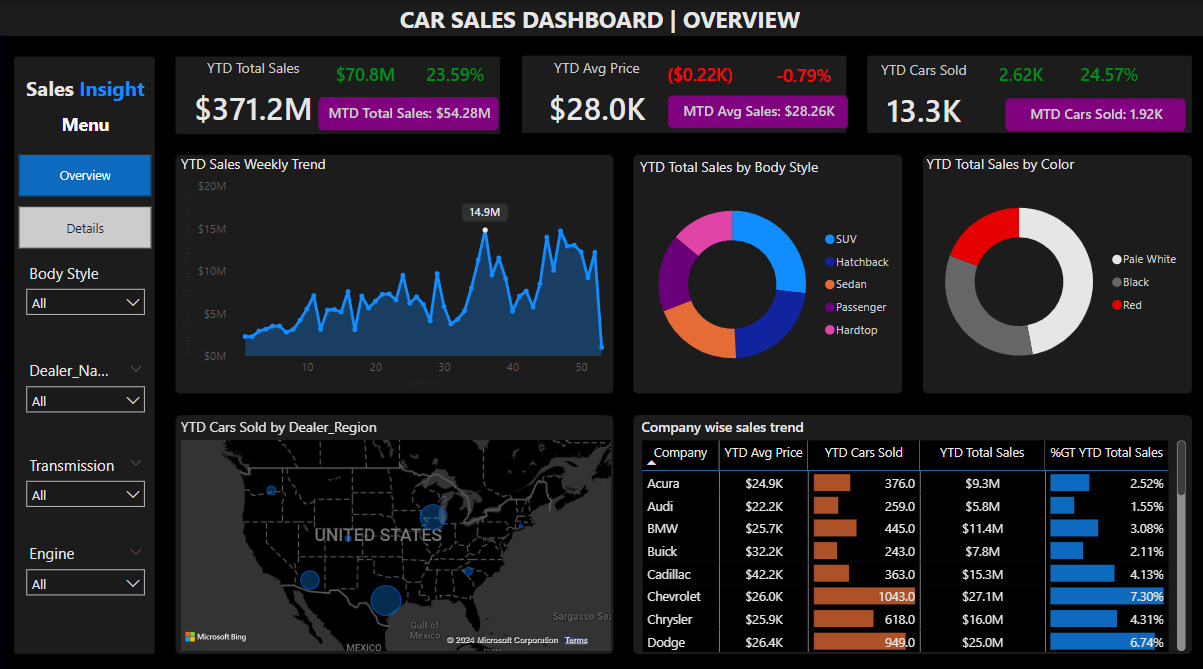

The dashboard page shown, as its layout file describes it:
{"tool":"powerbi","page":{"name":"Overview","canvas":[1280,720],"ordinal":0},"visuals":[{"type":"card","title":"YTD Total Sales","fields":{"Values":["car_data.YTD Total Sales"]},"box":[181.2,63.6,176.4,85.8],"z":0},{"type":"card","fields":{"Values":["car_data.Sales Difference"]},"box":[340.1,60.4,95.4,42.9],"z":1000},{"type":"card","fields":{"Values":["car_data.YoY Sales Growth"]},"box":[435.5,60.4,95.4,42.9],"z":2000},{"type":"card","fields":{"Values":["car_data.MTD KPI"]},"box":[338.5,104.9,190.7,35],"z":3000},{"type":"card","title":"YTD Avg Price","fields":{"Values":["car_data.YTD Avg Price"]},"box":[545.2,63.6,176.4,85.8],"z":4000},{"type":"card","fields":{"Values":["car_data.YTD Avg Sales Diff"]},"box":[694.6,60.4,95.4,42.9],"z":5000},{"type":"card","fields":{"Values":["car_data.YoY Avg Growth"]},"box":[804.2,62,95.4,42.9],"z":6000},{"type":"card","fields":{"Values":["car_data.MTD Avg Price KPI"]},"box":[708.9,103.3,190.7,35],"z":7000},{"type":"card","title":"YTD Cars Sold","fields":{"Values":["car_data.YTD Car Sold"]},"box":[891.7,65.2,176.4,85.8],"z":8000},{"type":"card","fields":{"Values":["car_data.Diff Car Sold"]},"box":[1034.7,60.4,95.4,42.9],"z":9000},{"type":"card","fields":{"Values":["car_data.YoY Car Sold Growth"]},"box":[1128.5,60.4,95.4,42.9],"z":10000},{"type":"card","fields":{"Values":["car_data.KPI MTD Cars Sold"]},"box":[1066.5,106.5,190.7,35],"z":11000},{"type":"areaChart","title":"YTD Sales Weekly Trend","fields":{"Category":["Calendar Table.Week"],"Y":["Sum(car_data.Price ($))","car_data.Max Point on Area Chart"]},"box":[187.5,165.3,465.7,252.7],"z":12000},{"type":"donutChart","fields":{"Category":["car_data.Body Style"],"Y":["car_data.YTD Total Sales"]},"box":[674.7,168.2,283.5,249.5],"z":13000},{"type":"donutChart","fields":{"Y":["car_data.YTD Total Sales"],"Category":["car_data.Color"]},"box":[978,166,284,250],"z":14000},{"type":"tableEx","title":"Company wise sales trend","fields":{"Values":["car_data.Company","car_data.YTD Avg Price","car_data.YTD Cars Sold","car_data.YTD Total Sales1","car_data.YTD Total Sales"]},"box":[675,443.3,586.7,253.3],"z":16000},{"type":"textbox","box":[420,0,468.3,56.7],"z":17000},{"type":"slicer","fields":{"Values":["car_data.Body Style"]},"box":[18.3,275,145,103.3],"z":18000},{"type":"slicer","fields":{"Values":["car_data.Dealer_Name"]},"box":[18.3,378.3,145,98.3],"z":19000},{"type":"slicer","fields":{"Values":["car_data.Transmission"]},"box":[18.3,478.3,145,93.3],"z":20000},{"type":"slicer","fields":{"Values":["car_data.Engine"]},"box":[18.3,571.7,145,88.3],"z":21000},{"type":"textbox","box":[18.3,75,145,45],"z":22000},{"type":"textbox","box":[18.3,116.7,145,51.7],"z":23000},{"type":"pageNavigator","box":[20,165,141.7,101.7],"z":24000},{"type":"map","fields":{"Category":["car_data.Dealer_Region"],"Size":["car_data.YTD Cars Sold"]},"box":[187.5,443.4,465.7,252.7],"z":24001}]}

Visuals, with their boxes in screenshot pixels (x1, y1, x2, y2), scaled from the page's 1280x720 canvas onto the 1203x669 screenshot:
"YTD Total Sales" card: pyautogui.locateOnScreen(170, 59, 336, 139)
card - car_data.Sales Difference: pyautogui.locateOnScreen(320, 56, 409, 96)
card - car_data.YoY Sales Growth: pyautogui.locateOnScreen(409, 56, 499, 96)
card - car_data.MTD KPI: pyautogui.locateOnScreen(318, 97, 497, 130)
"YTD Avg Price" card: pyautogui.locateOnScreen(512, 59, 678, 139)
card - car_data.YTD Avg Sales Diff: pyautogui.locateOnScreen(653, 56, 742, 96)
card - car_data.YoY Avg Growth: pyautogui.locateOnScreen(756, 58, 845, 97)
card - car_data.MTD Avg Price KPI: pyautogui.locateOnScreen(666, 96, 845, 129)
"YTD Cars Sold" card: pyautogui.locateOnScreen(838, 61, 1004, 140)
card - car_data.Diff Car Sold: pyautogui.locateOnScreen(972, 56, 1062, 96)
card - car_data.YoY Car Sold Growth: pyautogui.locateOnScreen(1061, 56, 1150, 96)
card - car_data.KPI MTD Cars Sold: pyautogui.locateOnScreen(1002, 99, 1182, 131)
"YTD Sales Weekly Trend" areaChart: pyautogui.locateOnScreen(176, 154, 614, 388)
donutChart - car_data.Body Style x car_data.YTD Total Sales: pyautogui.locateOnScreen(634, 156, 901, 388)
donutChart - car_data.YTD Total Sales x car_data.Color: pyautogui.locateOnScreen(919, 154, 1186, 387)
"Company wise sales trend" tableEx: pyautogui.locateOnScreen(634, 412, 1186, 647)
textbox: pyautogui.locateOnScreen(395, 0, 835, 53)
slicer - car_data.Body Style: pyautogui.locateOnScreen(17, 256, 153, 352)
slicer - car_data.Dealer_Name: pyautogui.locateOnScreen(17, 352, 153, 443)
slicer - car_data.Transmission: pyautogui.locateOnScreen(17, 444, 153, 531)
slicer - car_data.Engine: pyautogui.locateOnScreen(17, 531, 153, 613)
textbox: pyautogui.locateOnScreen(17, 70, 153, 112)
textbox: pyautogui.locateOnScreen(17, 108, 153, 156)
pageNavigator: pyautogui.locateOnScreen(19, 153, 152, 248)
map - car_data.Dealer_Region x car_data.YTD Cars Sold: pyautogui.locateOnScreen(176, 412, 614, 647)
